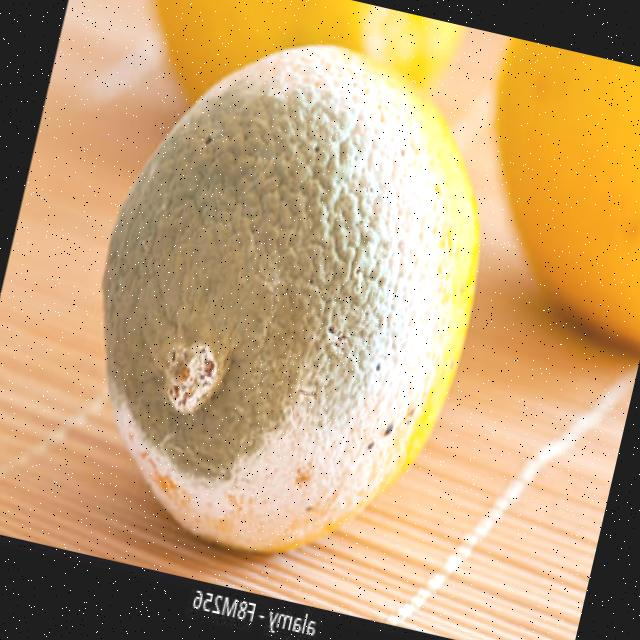Rotten: (47, 2, 524, 590)
